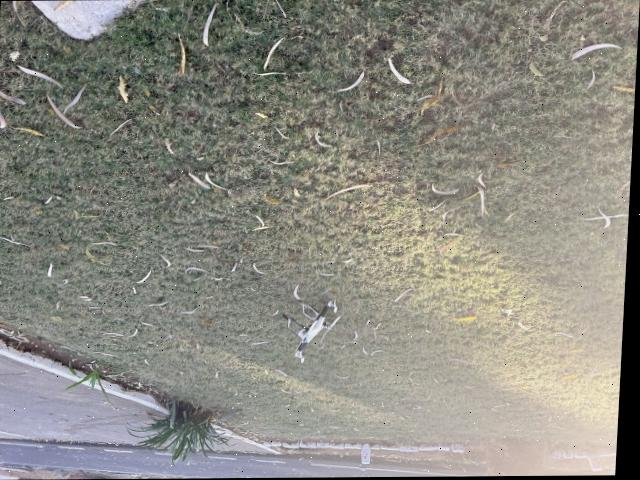drone: (266, 278, 364, 370)
